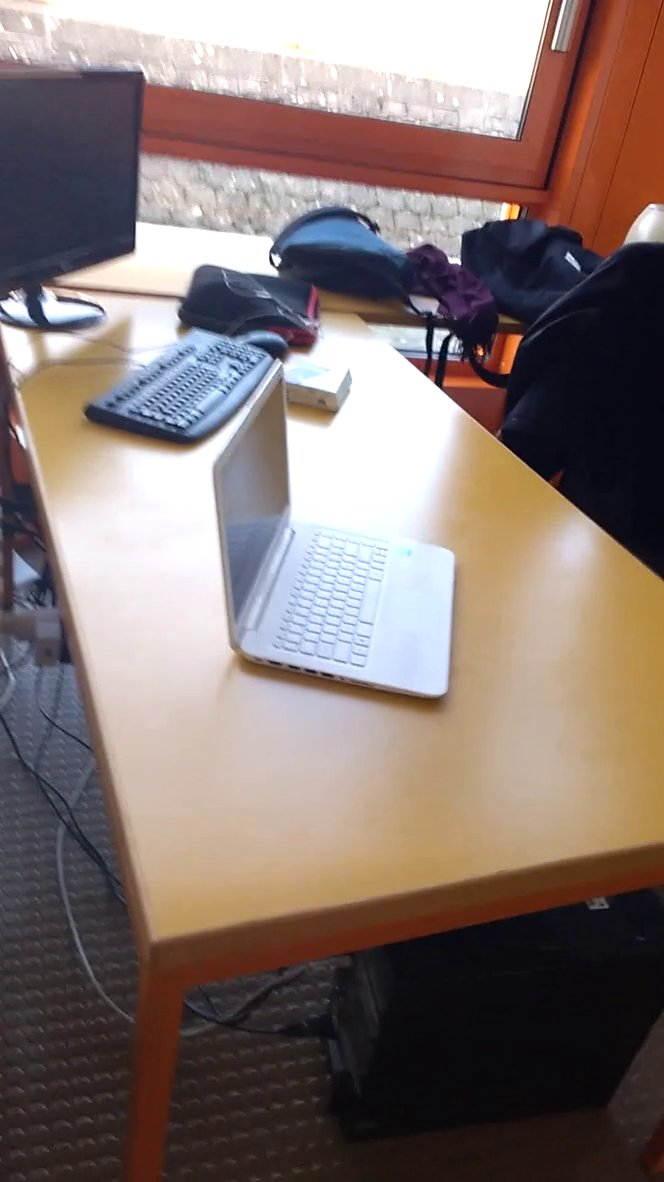bag: (457, 201, 623, 358), (268, 202, 429, 335)
laptop: (197, 356, 473, 717)
